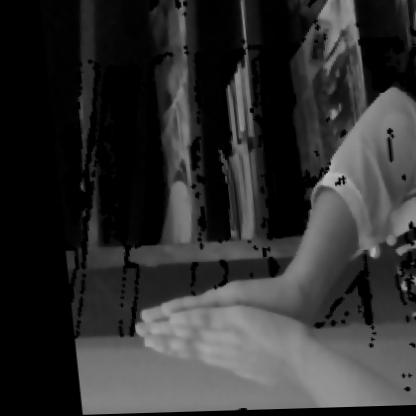namaste: (101, 237, 362, 402)
